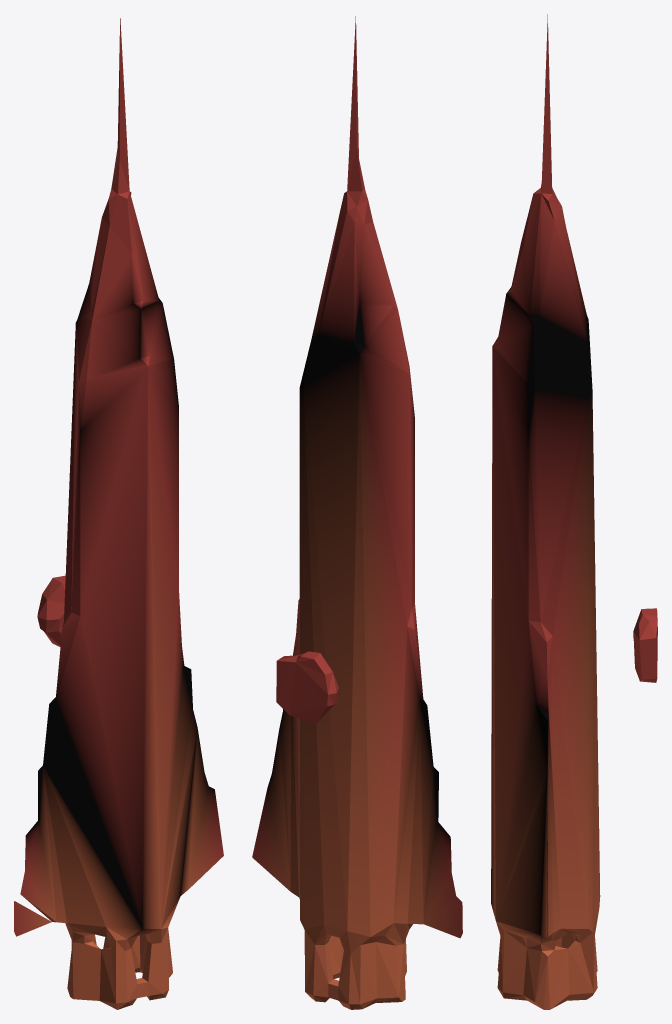
File: Cartoon Space Rockets.glb
3 views of the same model, side by side, from view 1: azimuth 30°, elevation 25°; view 2: azimuth 150°, elevation 25°; view 3: azimuth 270°, elevation 25° (orthographic).
Parts seen in each view (by area): view 1: Root; view 2: Root; view 3: Root.
Boxes of the visible parts, box(x1,y1,x2,y2) form: Root: box(14, 18, 223, 1009); Root: box(252, 16, 462, 1009); Root: box(491, 14, 657, 1009).
Bounding box in the file's own units: 1.41 × 6.24 × 0.9687.
